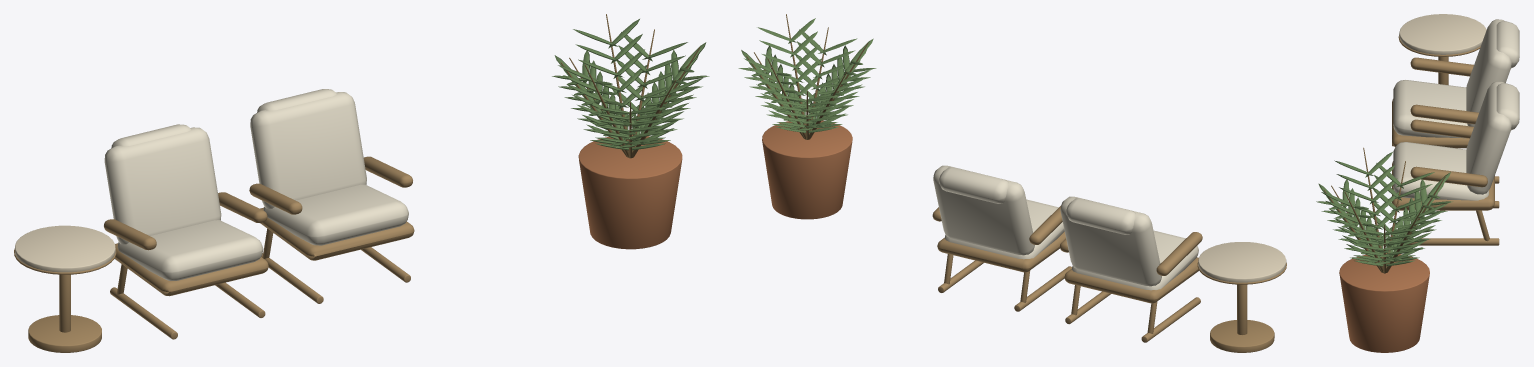
Rendered from coast-furniture.glb.
3 views of the same model, side by side, from view 1: azimuth 30°, elevation 25°; view 2: azimuth 150°, elevation 25°; view 3: azimuth 270°, elevation 25° (orthographic). The views are drawn at different scales.
Parts seen in each view (by area): view 1: Sculpted seat cushion, Sled front foot, Glazed botanical planter, Fine palm leaflet, Honed stone side table, Arching palm stem; view 2: Sculpted seat cushion, Sled front foot, Glazed botanical planter, Fine palm leaflet, Honed stone side table, Arching palm stem; view 3: Sculpted seat cushion, Glazed botanical planter, Fine palm leaflet, Sled front foot, Honed stone side table, Arching palm stem.
Boxes of the visible parts, x1,y1,x2,y2 form: Sculpted seat cushion: (104, 89, 408, 280); Sled front foot: (14, 156, 414, 352); Glazed botanical planter: (578, 134, 682, 249); Fine palm leaflet: (552, 19, 709, 150); Honed stone side table: (15, 225, 115, 272); Arching palm stem: (561, 14, 700, 158); Sculpted seat cushion: (933, 165, 1198, 290); Sled front foot: (932, 206, 1286, 352); Glazed botanical planter: (762, 119, 852, 219); Fine palm leaflet: (738, 18, 876, 132); Honed stone side table: (1198, 242, 1286, 282); Arching palm stem: (746, 14, 868, 139); Sculpted seat cushion: (1393, 19, 1519, 200); Glazed botanical planter: (1339, 253, 1429, 352); Fine palm leaflet: (1316, 152, 1453, 266); Sled front foot: (1392, 35, 1499, 245); Honed stone side table: (1399, 14, 1486, 54); Arching palm stem: (1324, 147, 1445, 273).
Bounding box in the file's own units: 4.42 × 1.25 × 1.39.
